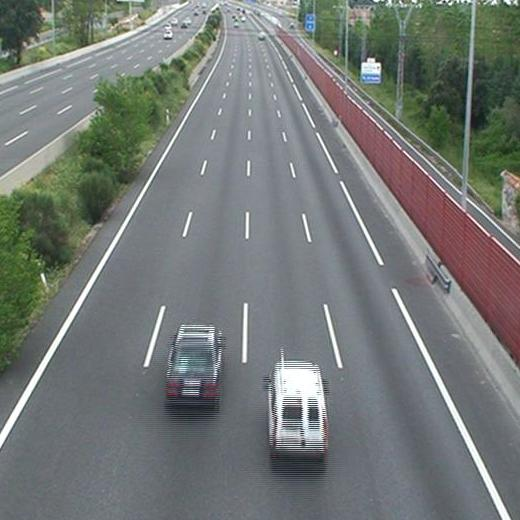car: (167, 326, 220, 400)
van: (269, 365, 326, 453)
